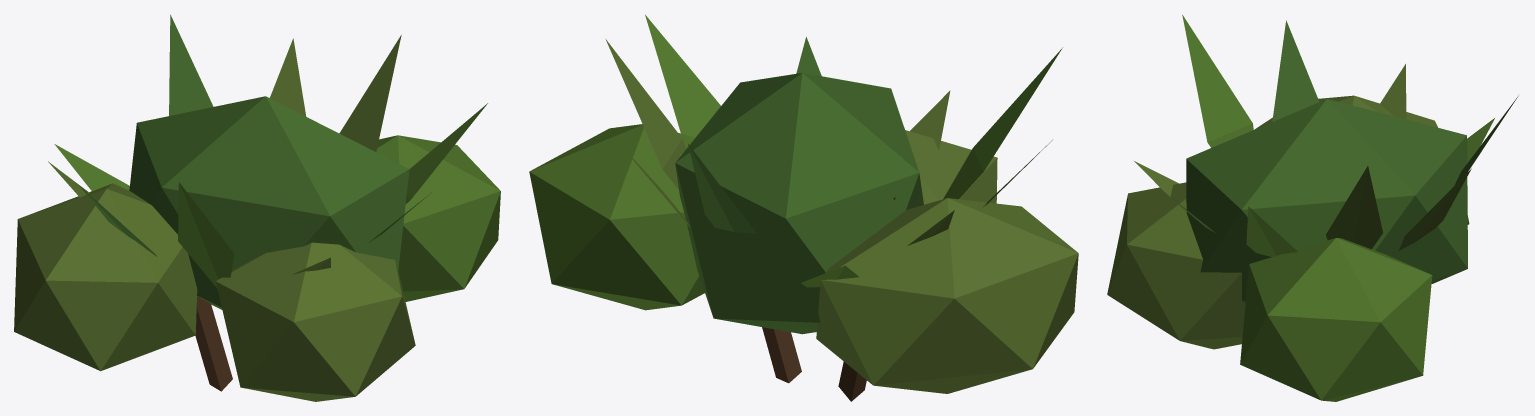
The model's file is E3_brush_c.glb.
3 renders of one model, left to right at view 1: azimuth 30°, elevation 25°; view 2: azimuth 150°, elevation 25°; view 3: azimuth 270°, elevation 25°, orthographic. The views are drawn at different scales.
Parts seen in each view (by area): view 1: E3_brush_c; view 2: E3_brush_c; view 3: E3_brush_c.
Part boxes in pixels (x1,y1,x2,y2): E3_brush_c: (14, 14, 500, 401); E3_brush_c: (529, 14, 1078, 401); E3_brush_c: (1107, 14, 1518, 401).
Bounding box in the file's own units: 1.34 × 0.8 × 1.06.
